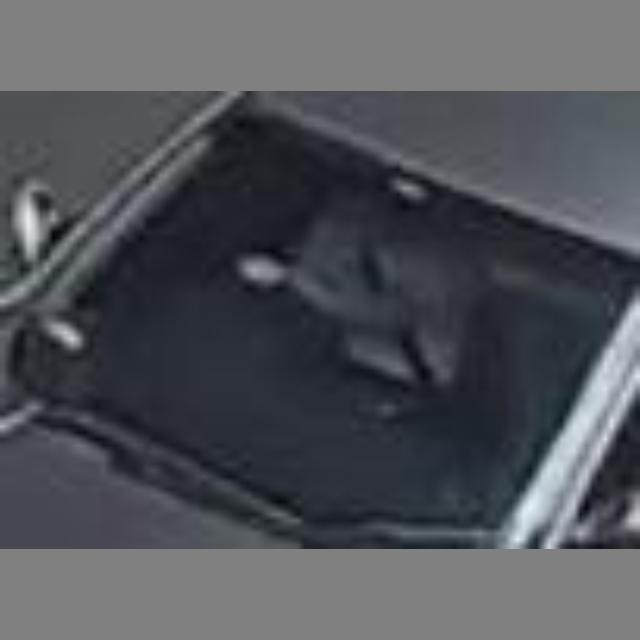pakai: (232, 185, 502, 436)
